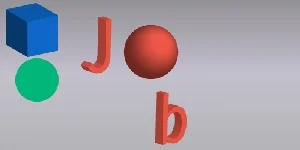圆形: (11, 56, 63, 102)
大写字母: (80, 13, 114, 76)
小写字母: (149, 88, 190, 147)
正方体: (3, 2, 66, 59)
球体: (121, 22, 181, 81)
